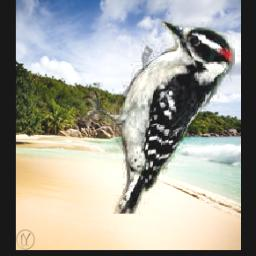Woodpecker: (71, 21, 235, 215)
